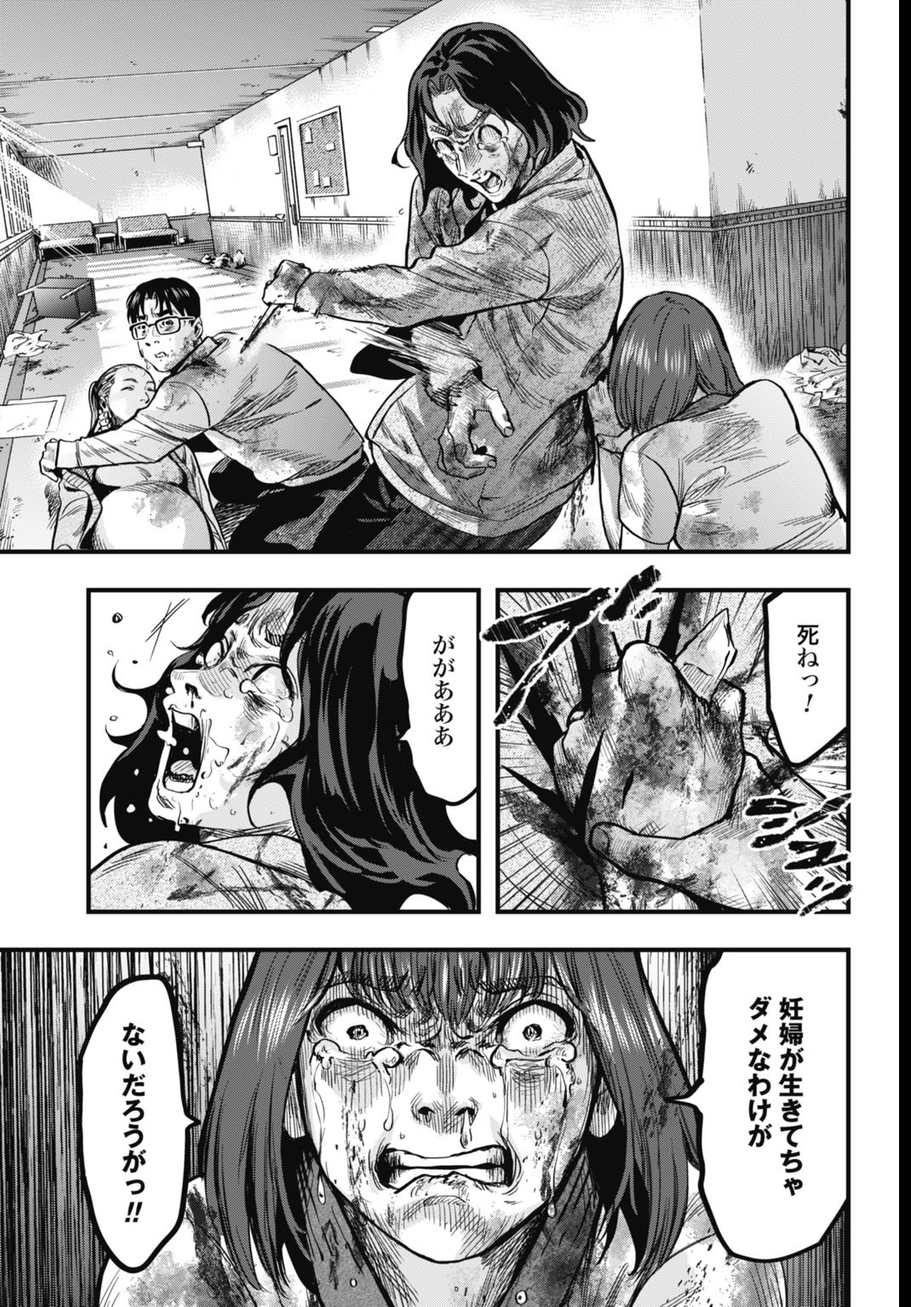bubbles: (662, 947, 848, 1267), (72, 970, 209, 1278), (389, 591, 480, 816), (757, 591, 850, 770)
